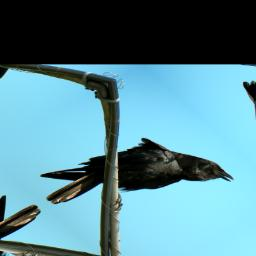Crow: (25, 109, 237, 253)
